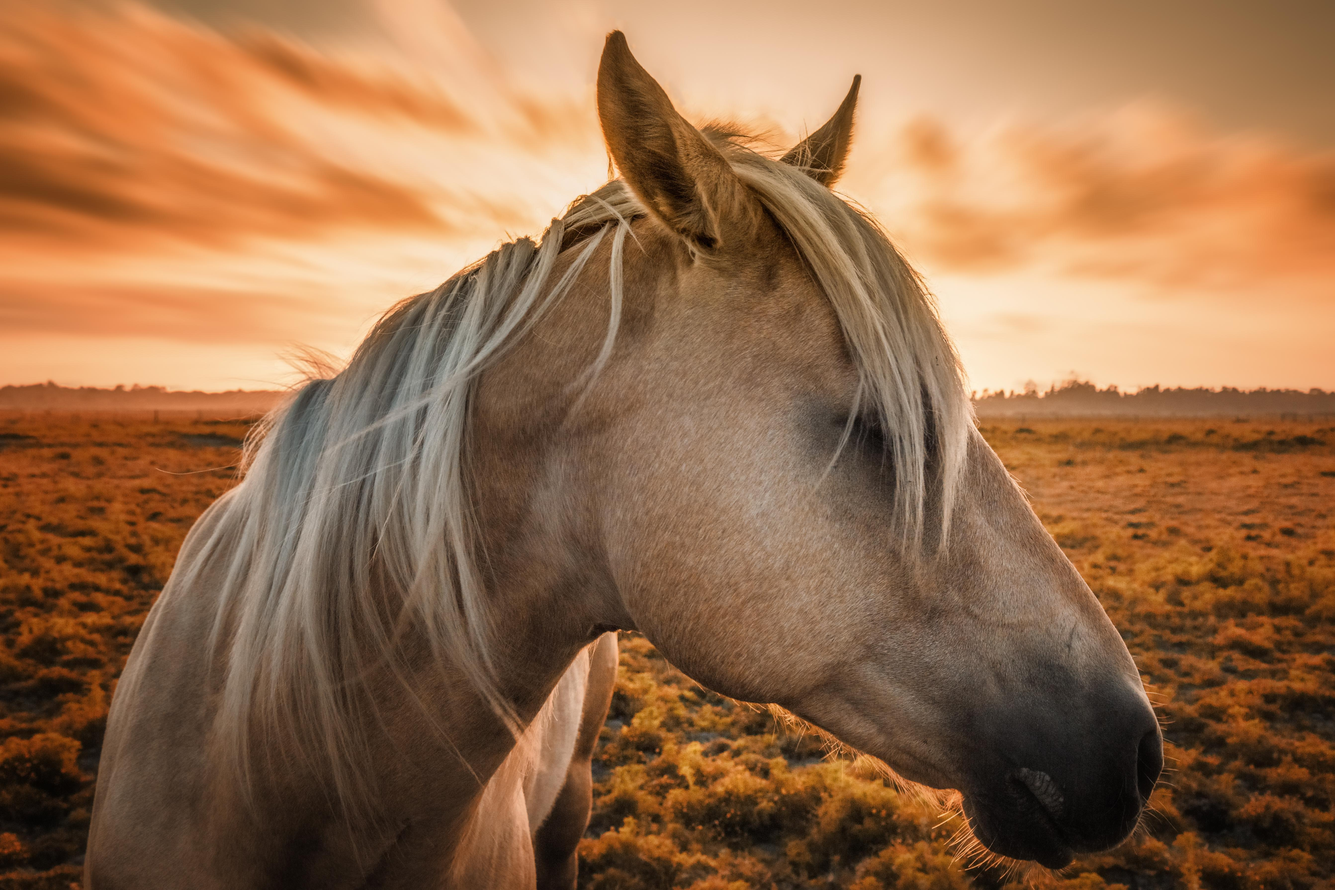horse: (64, 16, 1182, 890)
